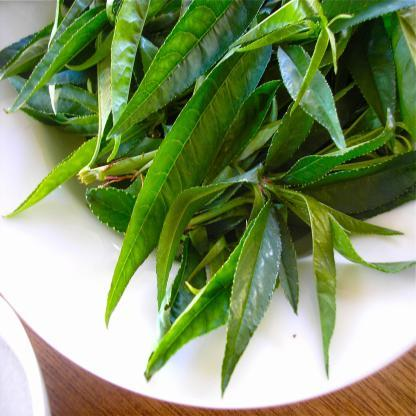Peach leaf: (102, 25, 274, 329), (105, 1, 266, 140), (158, 172, 258, 308), (213, 200, 280, 396), (147, 240, 237, 374), (6, 6, 105, 118), (281, 110, 396, 188), (279, 41, 349, 156)
